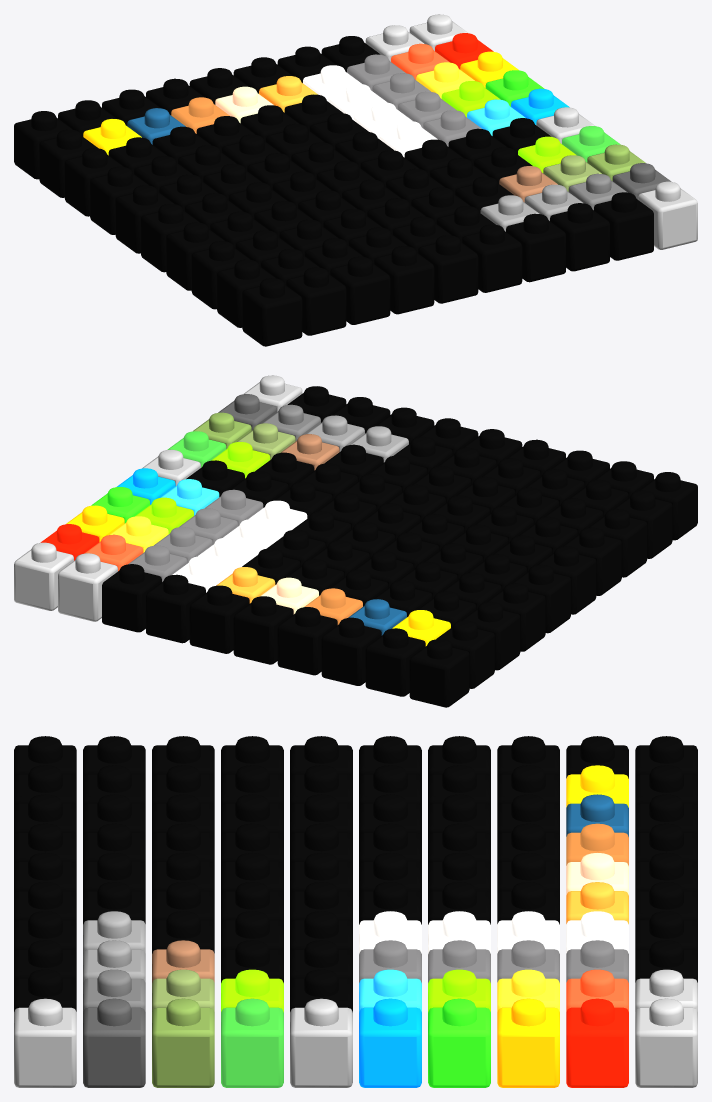
The model's file is _ColorTest.fbx.
The picture shows the model from 3 angles, top to bottom: view 1: azimuth 30°, elevation 25°; view 2: azimuth 150°, elevation 25°; view 3: azimuth 270°, elevation 25°; orthographic projection. The views are drawn at different scales.
Parts seen in each view (by area): view 1: ColorTest; view 2: ColorTest; view 3: ColorTest.
Boxes of the visible parts, <box> form: ColorTest: <box>14,14,697,346</box>; ColorTest: <box>14,375,697,707</box>; ColorTest: <box>14,736,697,1087</box>.
Size of the model in its own units: 3.97 by 0.4653 by 3.97.
